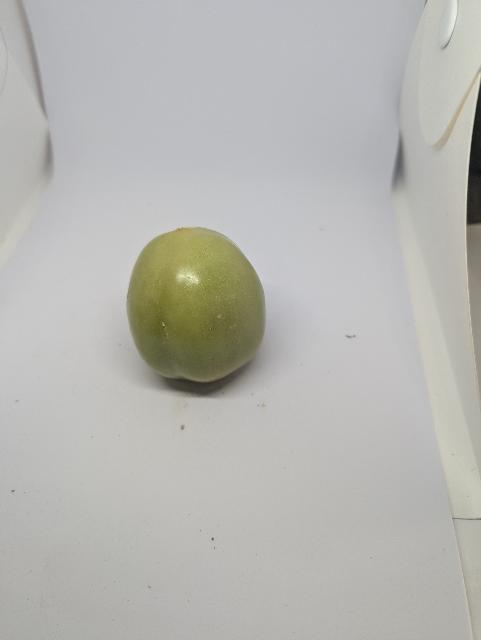green: (124, 225, 268, 385)
